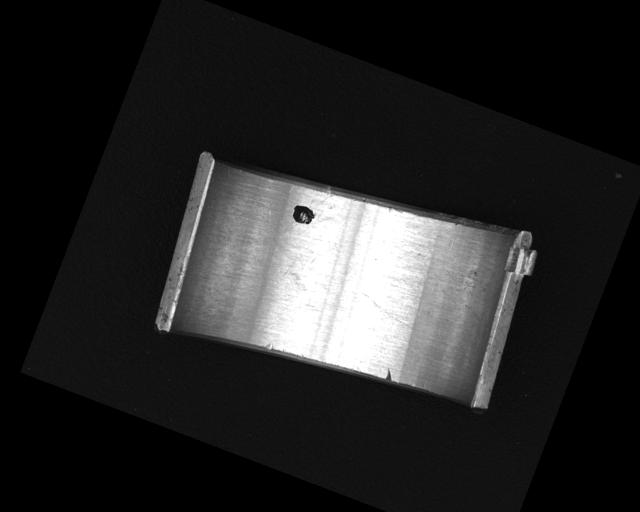blot: (261, 237, 322, 294), (288, 201, 318, 229)
bruise: (382, 366, 395, 382), (263, 342, 273, 352)
